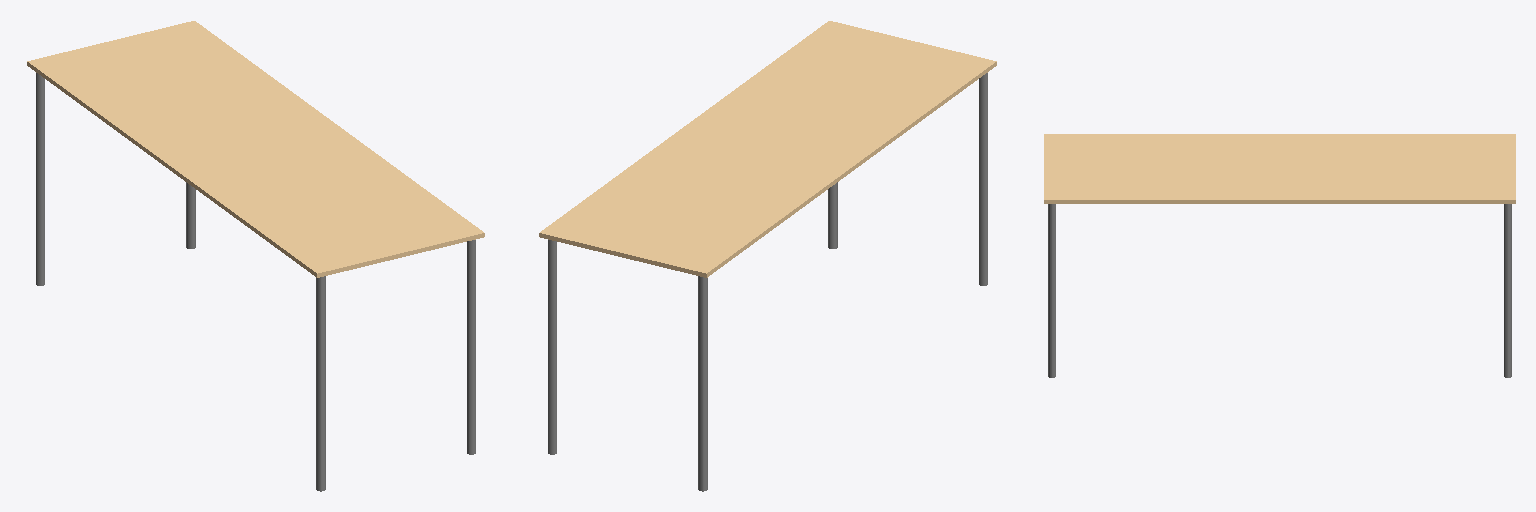
URDF robot description (box):
<?xml version="1.0" ?>
<robot name="box">

  <material name="panda_white">
    <color rgba="1. 0.87 0.68 1."/>
  </material>

  <material name="metal">
    <color rgba="0.6 0.6 0.6 1."/>
  </material>

  <link name="link1">
    <inertial>
      <origin rpy="0 0 0" xyz="0 0 0"/>
       <mass value=".0"/>
       <inertia ixx="0" ixy="0" ixz="0" iyy="0" iyz="0" izz="0"/>
    </inertial>

    <visual>
      <origin rpy="0 0 0" xyz="0.0 0 0.25"/>
      <geometry>
        <box size="0.2 0.6 0.005"/>
      </geometry>
      <material name="panda_white"/>
    </visual>
  </link>

  <link name="link2">
    <inertial>
      <origin rpy="0 0 0" xyz="0 0 0"/>
       <mass value=".0"/>
       <inertia ixx="0" ixy="0" ixz="0" iyy="0" iyz="0" izz="0"/>
    </inertial>

    <visual>
      <origin rpy="0 0 0" xyz="0.09 0.29 0.125"/>
      <geometry>
        <cylinder radius="0.005" length="0.25"/>
      </geometry>
      <material name="metal"/>
    </visual>

    <visual>
      <origin rpy="0 0 0" xyz="0.09 -0.29 0.125"/>
      <geometry>
        <cylinder radius="0.005" length="0.25"/>
      </geometry>
      <material name="metal"/>
    </visual>

    <visual>
      <origin rpy="0 0 0" xyz="-0.09 0.29 0.125"/>
      <geometry>
        <cylinder radius="0.005" length="0.25"/>
      </geometry>
      <material name="metal"/>
    </visual>

    <visual>
      <origin rpy="0 0 0" xyz="-0.09 -0.29 0.125"/>
      <geometry>
        <cylinder radius="0.005" length="0.25"/>
      </geometry>
      <material name="metal"/>
    </visual>
  </link>

  <joint name="fixed_joint" type="fixed">
    <parent link="link1"/>
    <child link="link2"/>
    <origin xyz="0 0 0" rpy="0 0 0"/>
  </joint>


</robot>

--- What the picture shows (computed from the rendered views, not written in the file) ---
The picture shows the robot from 3 angles, left to right: view 1: azimuth 30°, elevation 25°; view 2: azimuth 150°, elevation 25°; view 3: azimuth 270°, elevation 25°; orthographic projection.
Robot: box — 2 links, 1 joints (1 fixed); root link link1; default pose: all joints at 0.
Links seen in each view (by area): view 1: link1, link2; view 2: link1, link2; view 3: link1, link2.
Boxes of the visible links, x1,y1,x2,y2 form: link1: (27, 21, 484, 277); link2: (36, 73, 475, 491); link1: (539, 21, 996, 277); link2: (548, 73, 987, 491); link1: (1044, 134, 1515, 203); link2: (1048, 204, 1511, 377).
Bounding box of the posed robot: 0.2 × 0.6 × 0.2525 m (x, y, z).
Geometry: primitives only (box / cylinder / sphere), no mesh files.